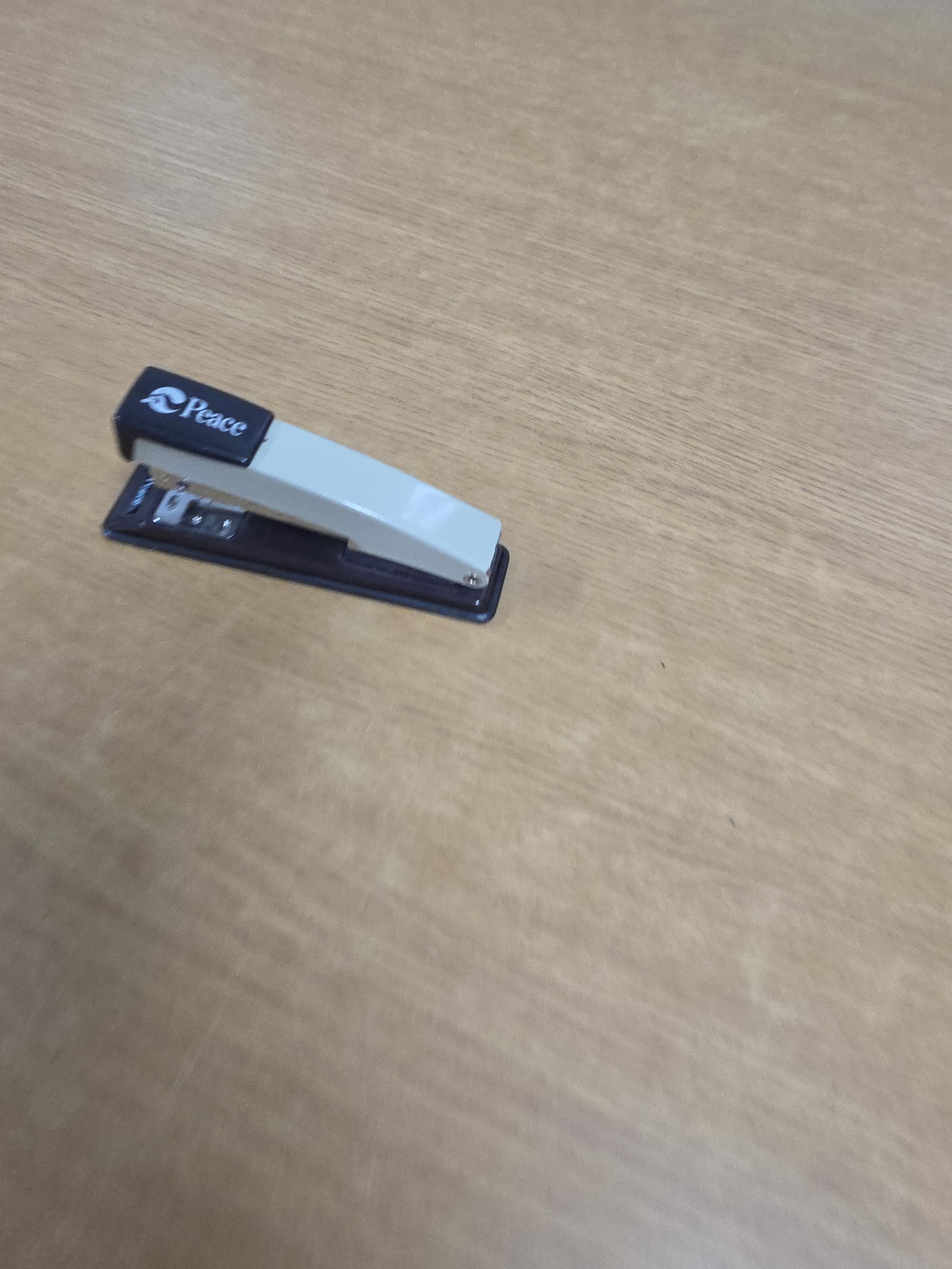stapler: (99, 365, 510, 623)
